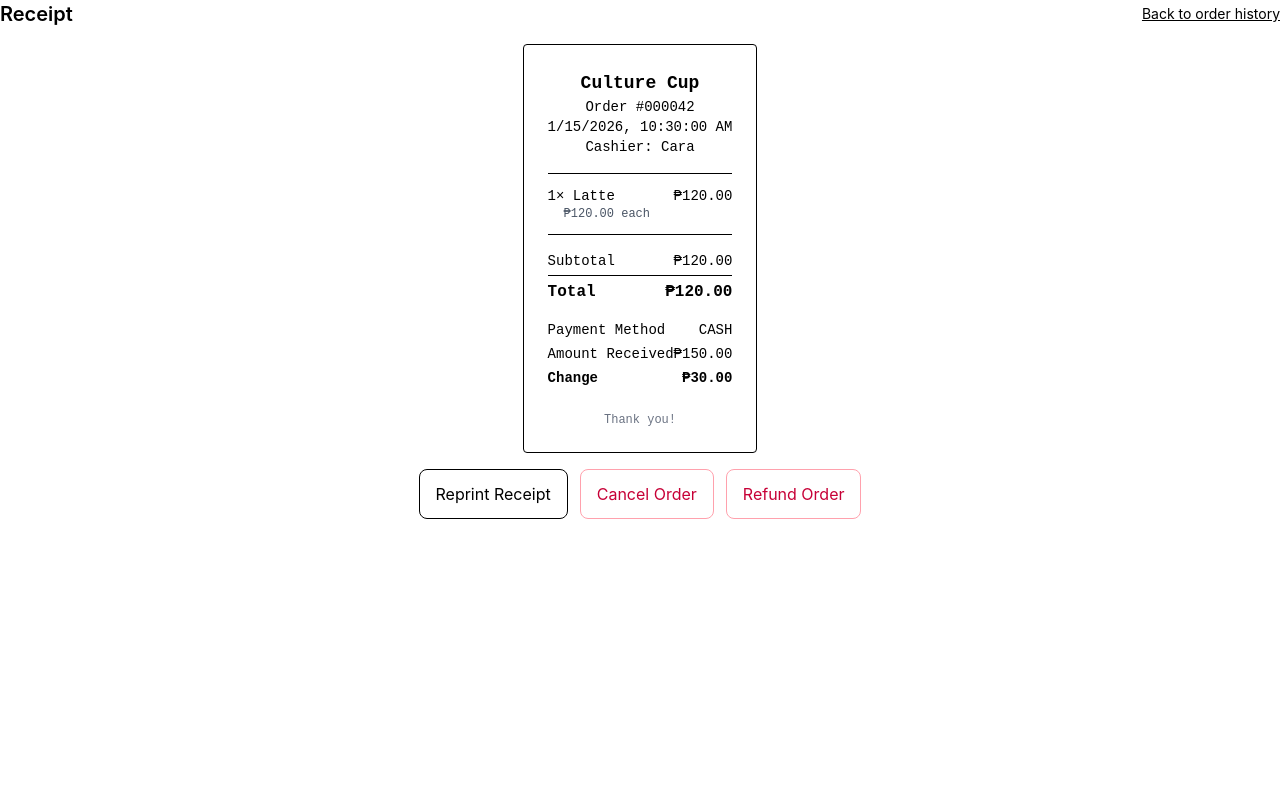
Test case: OrderDetailPage › requires a reason before the Cancel Order dialog can be confirmed
Expected: the text "Order #000042" is shown, [585,99,695,115]
Click the button "Cancel Order": (647, 494) [580,469,714,519]
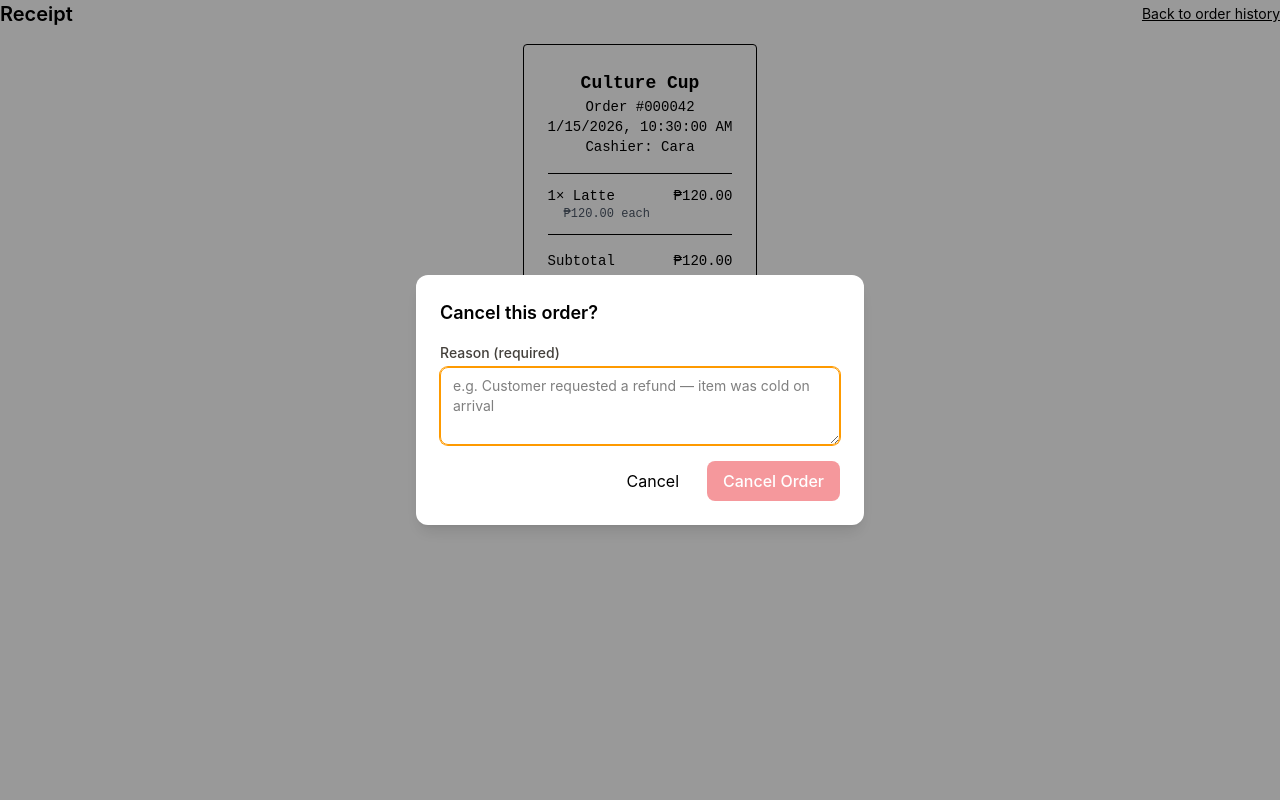
Expected: the button "Cancel Order" is disabled, [707,461,840,501]
In the text box with placeholder "e.g. Customer requested a refund — item was cold on arrival": (640, 406) [440,367,840,445], type "Wrong order placed"
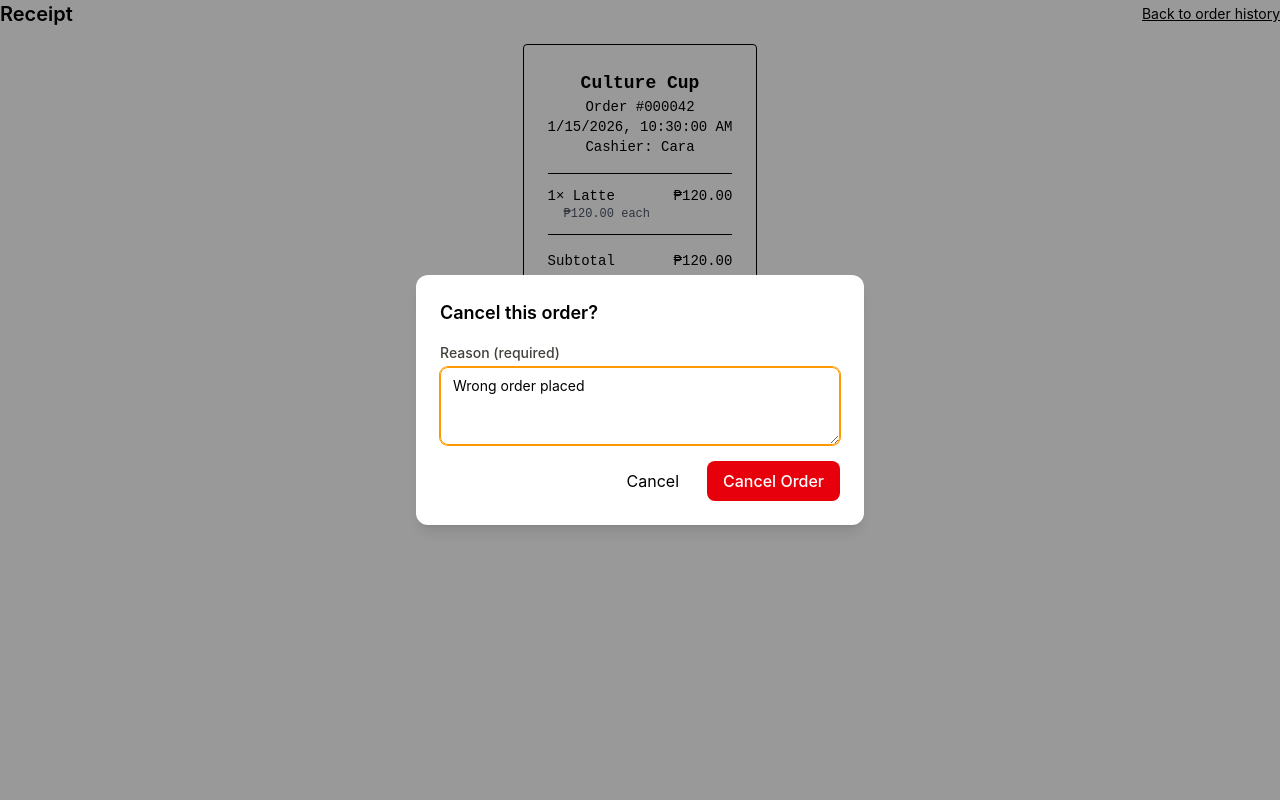
Expected: the button "Cancel Order" is enabled, [707,461,840,501]
